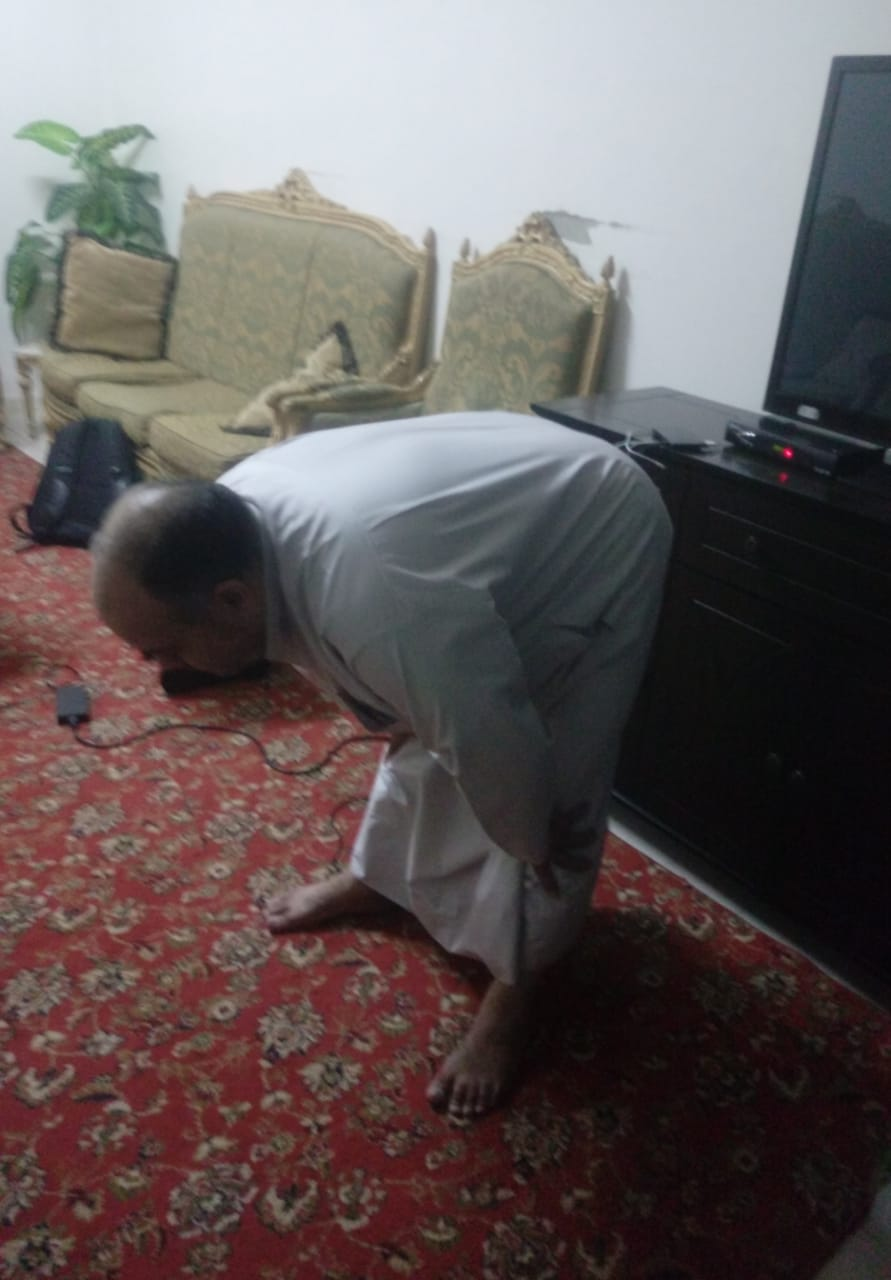ruku: (80, 422, 720, 1134)
